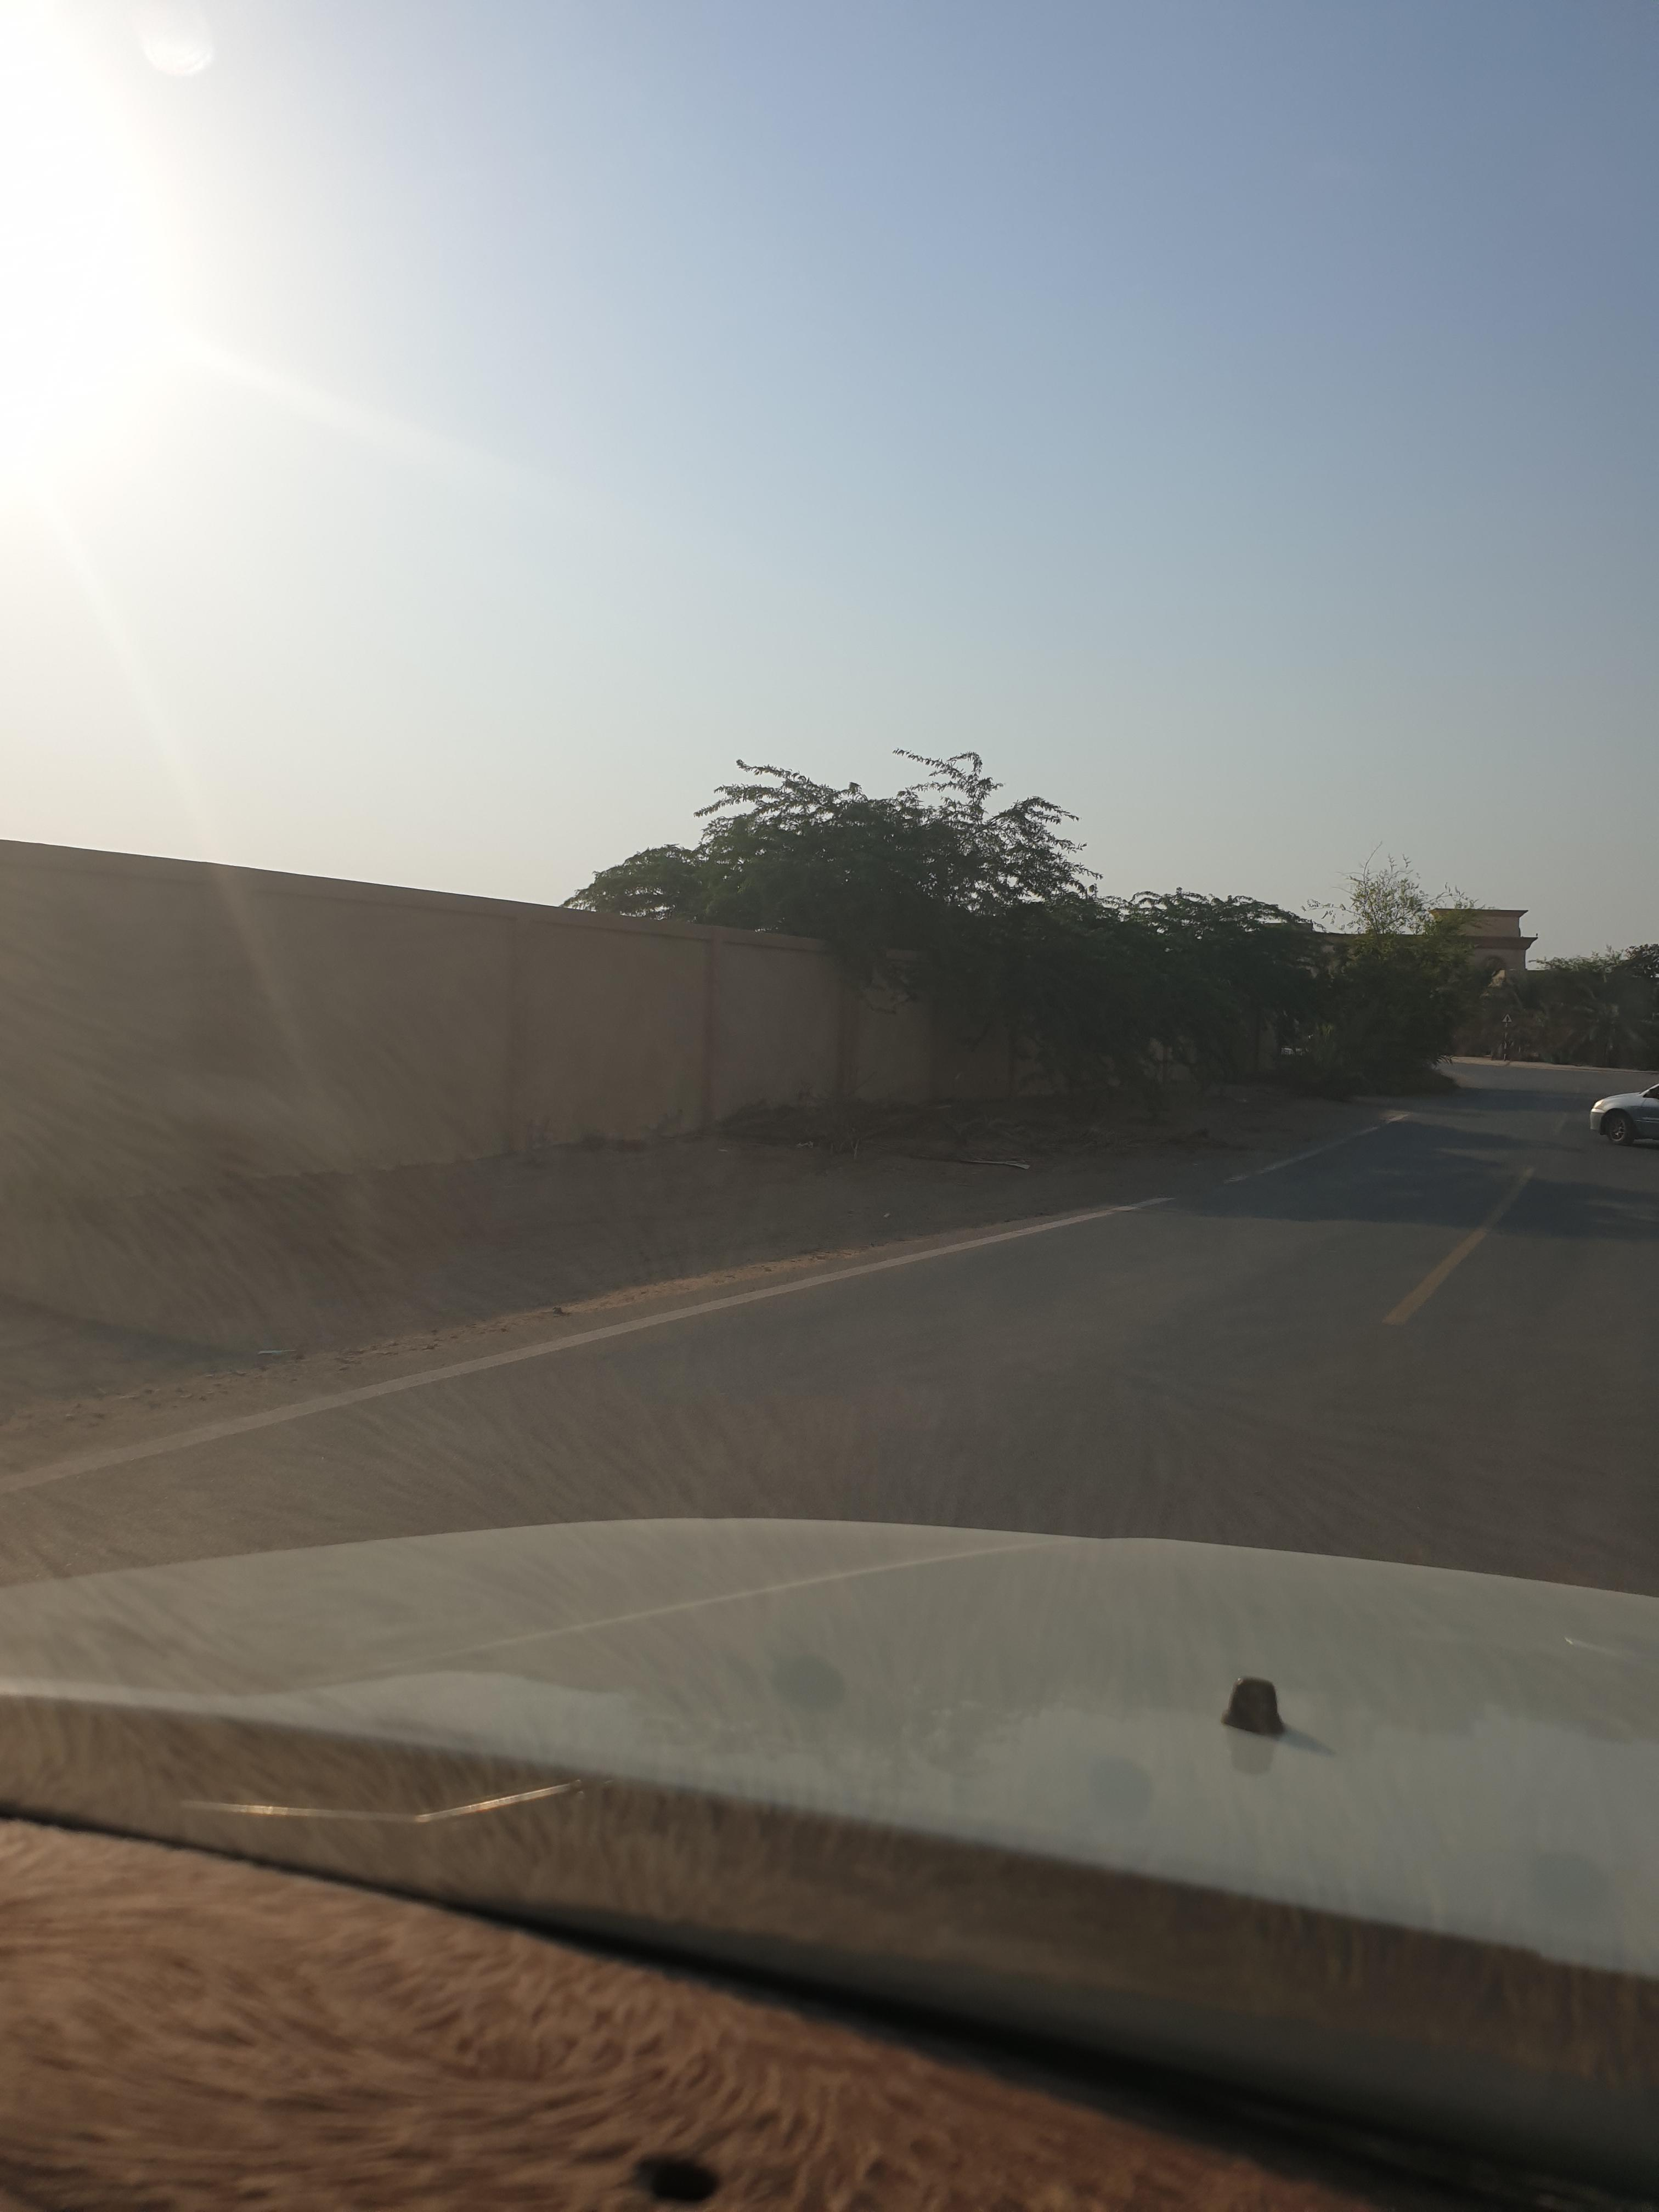fallen_trees: (744, 1104, 1075, 1181)
